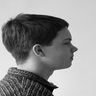ear: (30, 41, 49, 62)
